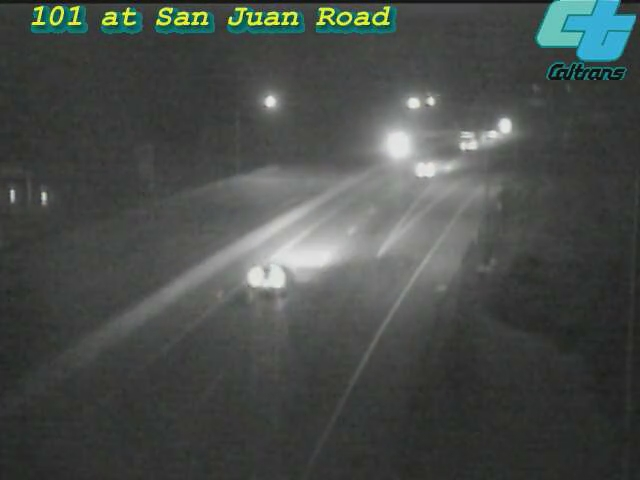vehicle: (385, 129, 465, 209), (229, 237, 309, 317), (374, 119, 424, 169), (474, 101, 524, 151), (467, 109, 517, 159), (450, 116, 500, 166)
